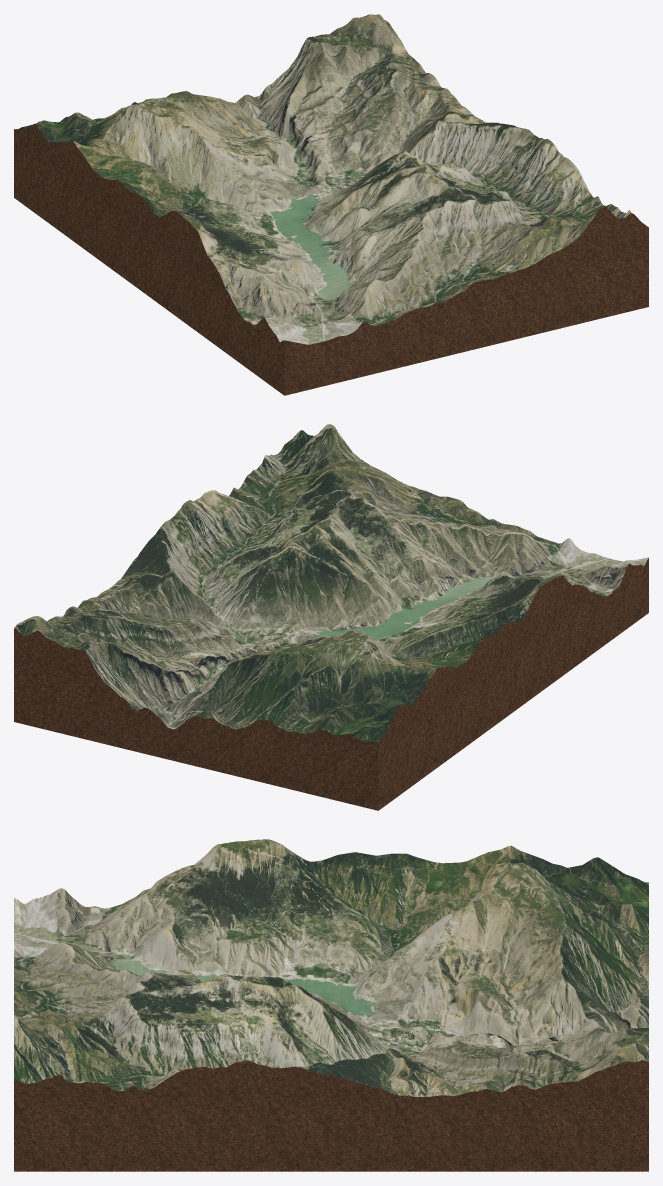
The model's file is tortum.glb.
3 renders of one model, top to bottom at view 1: azimuth 30°, elevation 25°; view 2: azimuth 150°, elevation 25°; view 3: azimuth 270°, elevation 25°, orthographic. The views are drawn at different scales.
Visible parts, largest first — view 1: tinMesh, side_south_tin, side_west_tin; view 2: tinMesh, side_north_tin, side_west_tin; view 3: tinMesh, side_east_tin.
Boxes of the visible parts, bbox=[...] form: tinMesh: bbox=[14, 14, 631, 344]; side_south_tin: bbox=[284, 207, 648, 395]; side_west_tin: bbox=[14, 123, 284, 395]; tinMesh: bbox=[14, 424, 648, 741]; side_north_tin: bbox=[14, 628, 378, 810]; side_west_tin: bbox=[378, 558, 648, 810]; tinMesh: bbox=[14, 839, 648, 1097]; side_east_tin: bbox=[14, 1060, 648, 1171].
Size of the model in its own units: 62.43 by 19.3 by 80.27.
3 materials, 2 textured.
